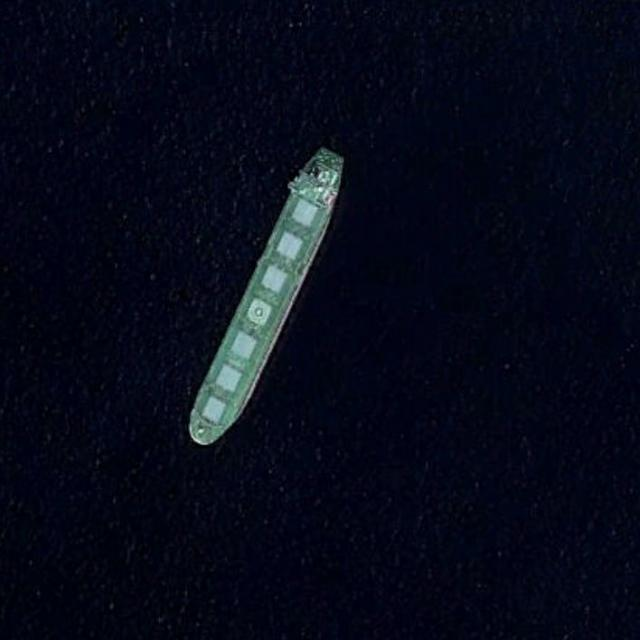ship: (186, 144, 344, 445)
